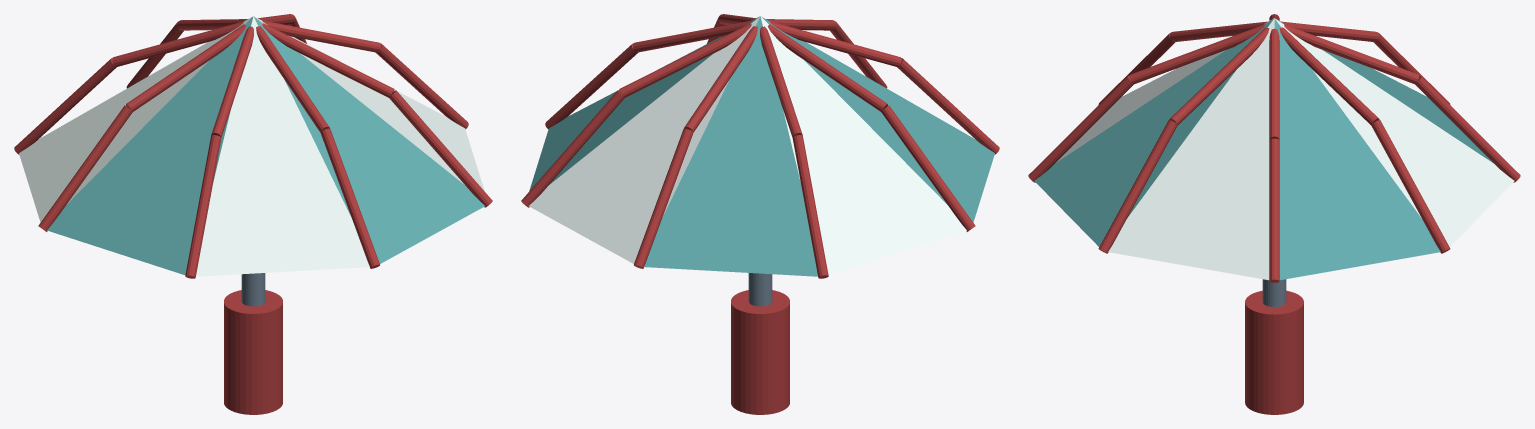
The model's file is foldumbrella.glb.
3 renders of one model, left to right at view 1: azimuth 30°, elevation 25°; view 2: azimuth 150°, elevation 25°; view 3: azimuth 270°, elevation 25°, orthographic.
Visible parts, largest first — view 1: panel2, panel3, panel1, panel4, handle, panel0, rib21, rib41, rib31, rib11, rib10, rib40 (+9 smaller); view 2: panel5, panel4, panel6, panel3, handle, panel7, rib61, rib41, rib51, rib71, rib70, rib40 (+9 smaller); view 3: panel0, panel7, panel1, panel6, handle, panel2, panel5, rib11, rib71, rib01, rib20, rib60 (+10 smaller).
Boxes of the visible parts, left/top/right/bottom form: panel2: left=196, top=16, right=369, bottom=276; panel3: left=47, top=16, right=253, bottom=274; panel1: left=254, top=17, right=484, bottom=263; panel4: left=19, top=16, right=252, bottom=222; handle: left=224, top=290, right=282, bottom=414; panel0: left=254, top=16, right=484, bottom=190; rib21: left=320, top=128, right=379, bottom=268; rib41: left=38, top=105, right=132, bottom=231; rib31: left=185, top=135, right=221, bottom=278; rib11: left=389, top=90, right=492, bottom=207; rib10: left=262, top=23, right=394, bottom=97; rib40: left=126, top=24, right=246, bottom=111; panel5: left=644, top=16, right=817, bottom=276; panel4: left=760, top=16, right=966, bottom=274; panel6: left=529, top=17, right=759, bottom=263; panel3: left=761, top=16, right=994, bottom=222; handle: left=731, top=290, right=789, bottom=414; panel7: left=529, top=16, right=759, bottom=190; rib61: left=634, top=128, right=693, bottom=268; rib41: left=881, top=105, right=975, bottom=231; rib51: left=792, top=135, right=828, bottom=278; rib71: left=521, top=90, right=624, bottom=207; rib70: left=619, top=23, right=751, bottom=97; rib40: left=767, top=24, right=887, bottom=111; panel0: left=1108, top=18, right=1274, bottom=280; panel7: left=1274, top=19, right=1440, bottom=280; panel1: left=1034, top=18, right=1273, bottom=246; panel6: left=1275, top=18, right=1514, bottom=246; handle: left=1245, top=290, right=1303, bottom=414; panel2: left=1055, top=18, right=1273, bottom=163; panel5: left=1275, top=18, right=1493, bottom=163; rib11: left=1098, top=120, right=1177, bottom=253; rib71: left=1371, top=120, right=1450, bottom=253; rib01: left=1269, top=138, right=1279, bottom=282; rib20: left=1129, top=24, right=1264, bottom=84; rib60: left=1284, top=24, right=1419, bottom=84.
Bounding box in the file's own units: 1.67 × 1.44 × 1.67.
